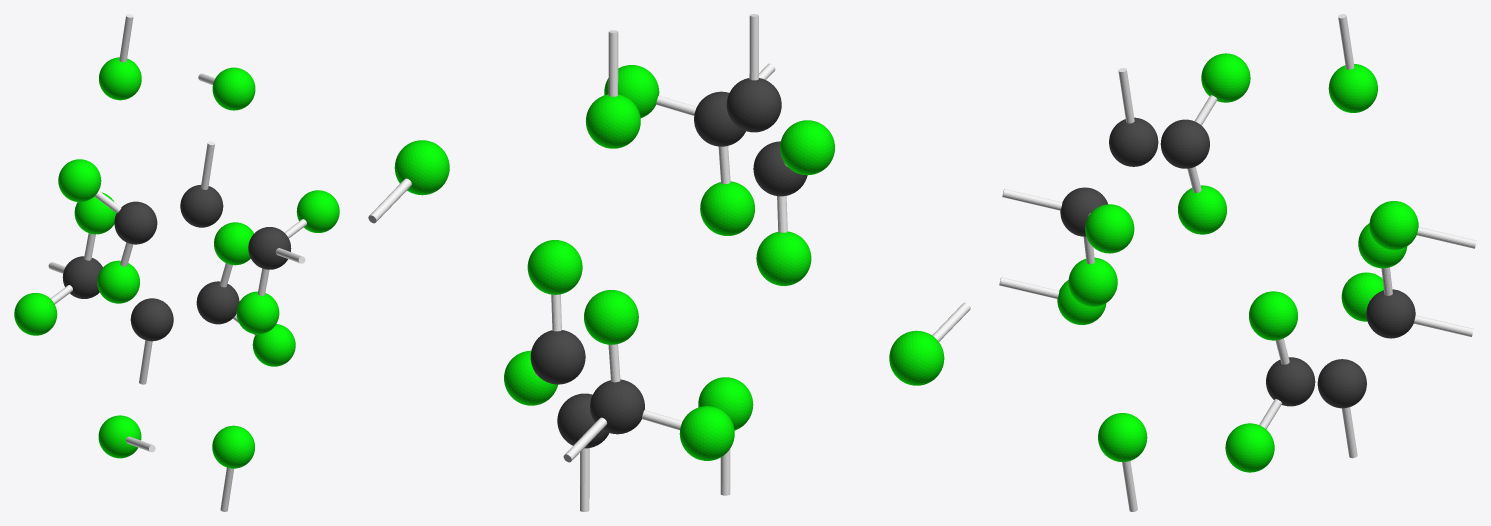
File: structure_mpstyle.glb
3 views of the same model, side by side, from view 1: azimuth 30°, elevation 25°; view 2: azimuth 150°, elevation 25°; view 3: azimuth 270°, elevation 25° (orthographic). The views are drawn at different scales.
Visible parts, largest first — view 1: world; view 2: world; view 3: world.
Boxes of the visible parts, box(x1,y1,x2,y2) form: world: box(14, 14, 339, 511); world: box(368, 14, 970, 511); world: box(999, 14, 1476, 511).
Size of the model in its own units: 6.18 by 8.82 by 7.75.
